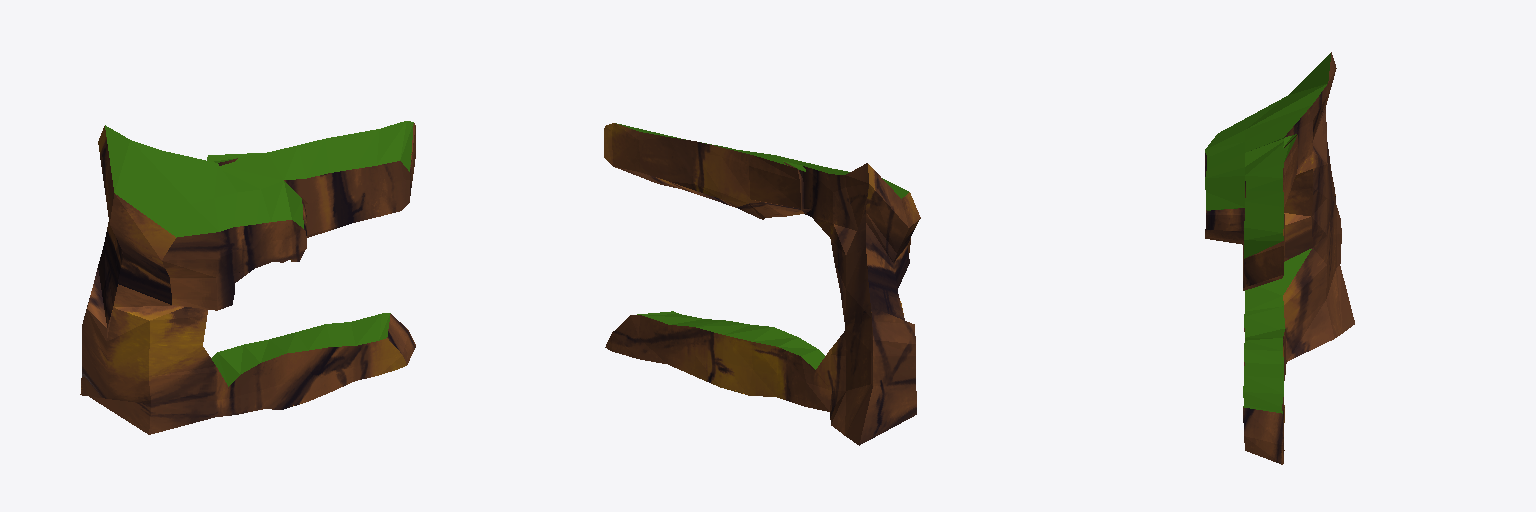
3 views of the same model, side by side, from view 1: azimuth 30°, elevation 25°; view 2: azimuth 150°, elevation 25°; view 3: azimuth 270°, elevation 25° (orthographic).
Parts seen in each view (by area): view 1: Plane.020_Plane.013; view 2: Plane.020_Plane.013; view 3: Plane.020_Plane.013.
Boxes of the visible parts, x1,y1,x2,y2 form: Plane.020_Plane.013: [80, 121, 415, 434]; Plane.020_Plane.013: [604, 123, 920, 445]; Plane.020_Plane.013: [1205, 52, 1354, 464].
Size of the model in its own units: 244 by 205 by 98.21.
Materials: 1 (1 with a texture image).